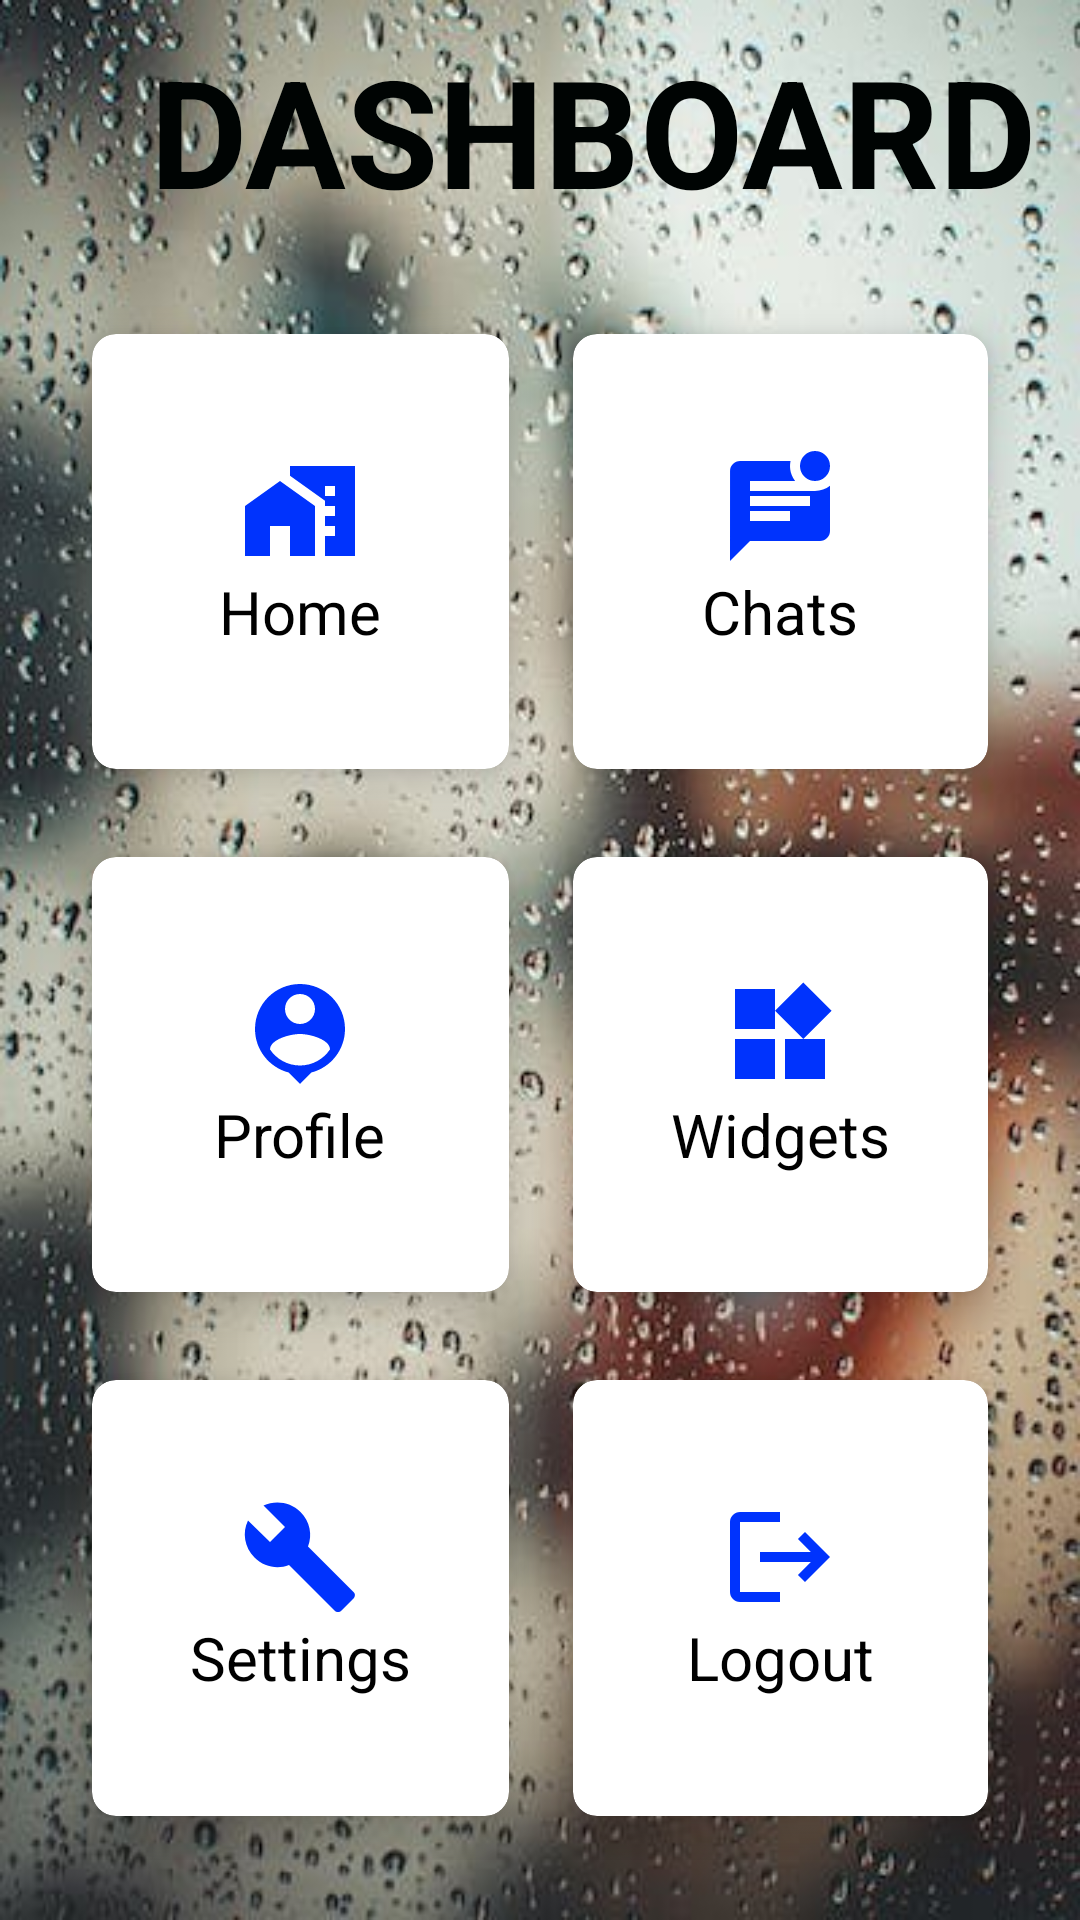

Named icons in this screenshot (1080px×1920px) and their bounding boxes, (x1, y1, x2, y2):
build: (244, 1502, 355, 1612)
mark unread chat: (730, 451, 830, 561)
person pin: (255, 984, 345, 1084)
